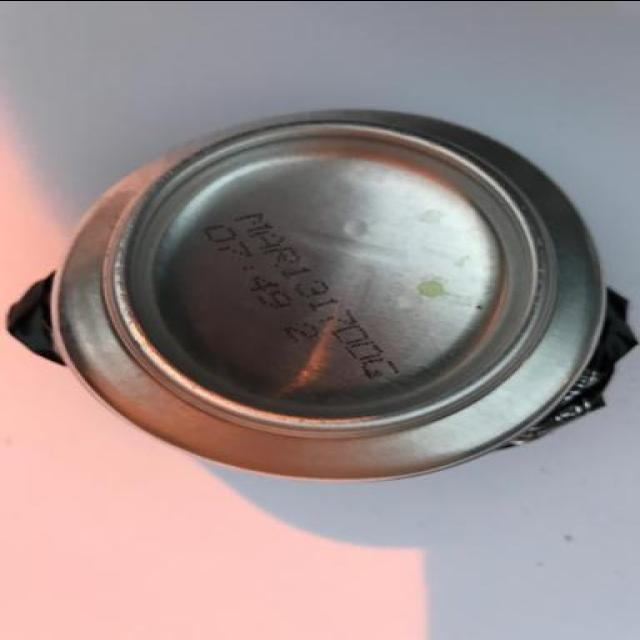Aluminum Can: (1, 103, 640, 486)
